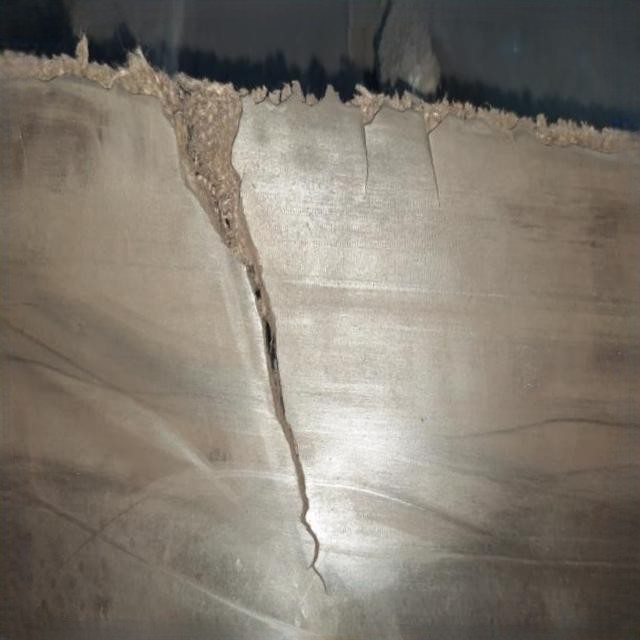Tear: (154, 94, 333, 598), (412, 110, 451, 209), (348, 105, 388, 195)
